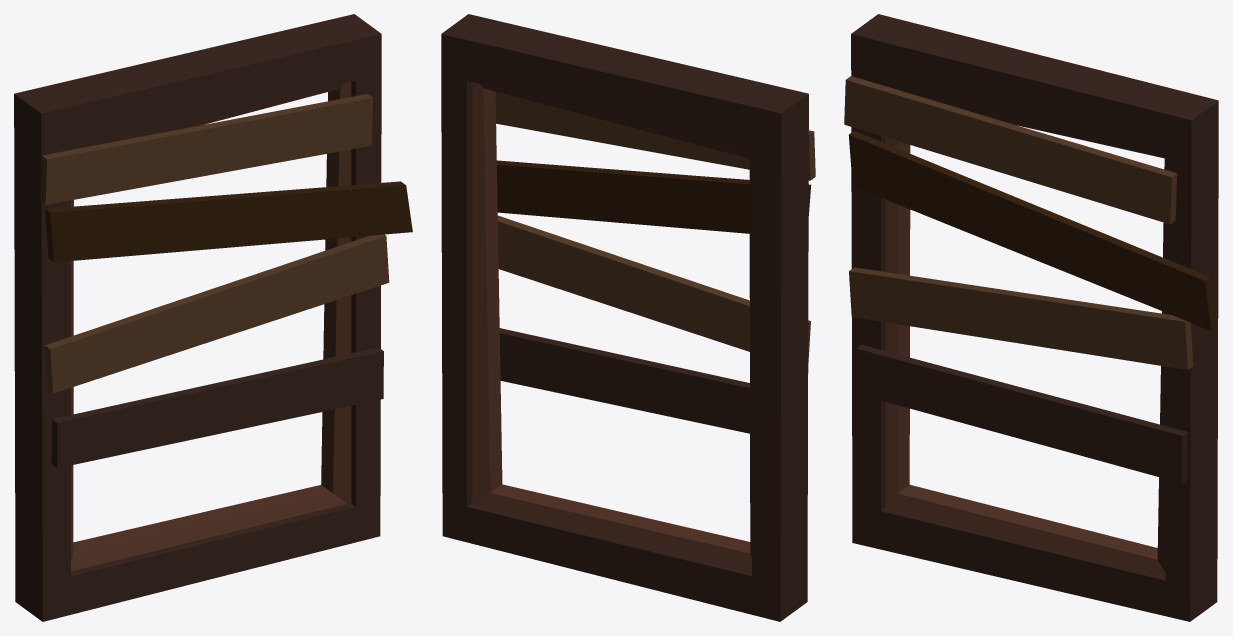
The model's file is Window 2x2 Broken.glb.
The picture shows the model from 3 angles, left to right: view 1: azimuth 30°, elevation 25°; view 2: azimuth 150°, elevation 25°; view 3: azimuth 330°, elevation 25°; orthographic projection.
Parts seen in each view (by area): view 1: Window 2x2 Broken; view 2: Window 2x2 Broken; view 3: Window 2x2 Broken.
Part boxes in pixels (x1,y1,x2,y2): Window 2x2 Broken: (14, 14, 412, 621); Window 2x2 Broken: (441, 14, 815, 621); Window 2x2 Broken: (844, 14, 1218, 621).
Size of the model in its own units: 1.24 by 1.65 by 0.1926.
1 material, 1 textured.
